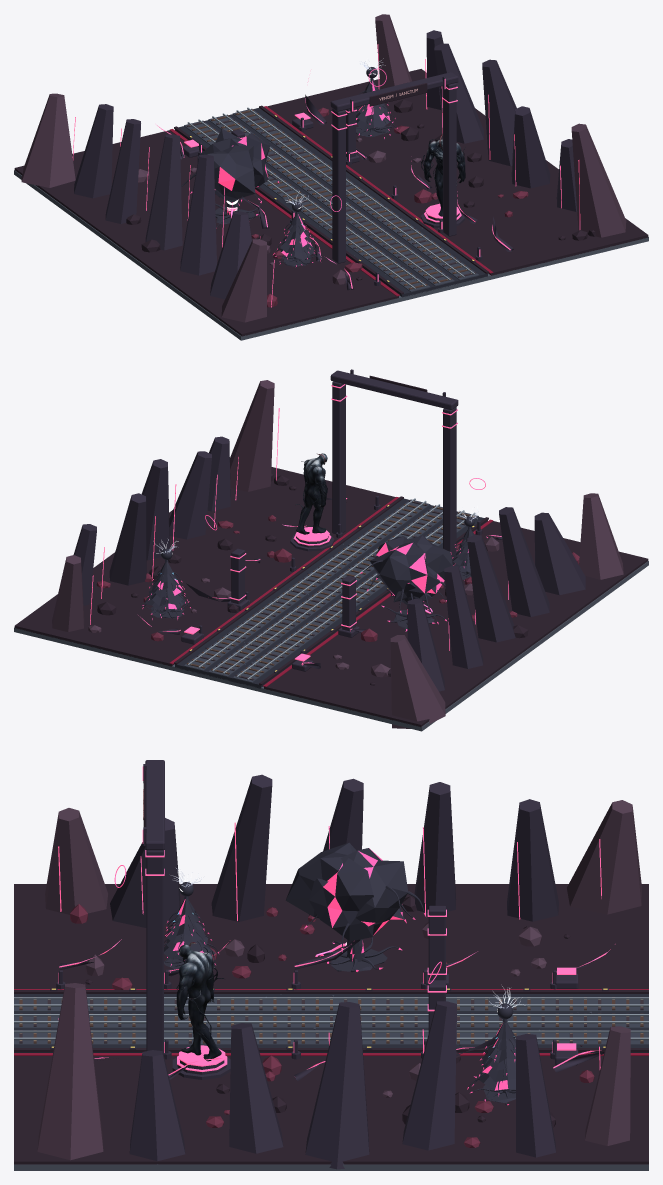
The model's file is 01_Venom_Sanctum.glb.
3 views of the same model, one above another, from view 1: azimuth 30°, elevation 25°; view 2: azimuth 150°, elevation 25°; view 3: azimuth 270°, elevation 25° (orthographic). The views are drawn at different scales.
Parts seen in each view (by area): view 1: 01_Venom_Sanctum · coal, 01_Venom_Sanctum · iron, 01_Venom_Sanctum · ash, 01_Venom_Sanctum · stone, District_Gate, 01_Venom_Sanctum · ballast, Venom tree surface 04.export, 01_Venom_Sanctum · dirt, 01_Venom_Sanctum · tie, 01_Venom_Sanctum · steel, 01_Venom_Sanctum · plasma, 01_Venom_Sanctum · steelweb (+6 smaller); view 2: 01_Venom_Sanctum · coal, 01_Venom_Sanctum · iron, 01_Venom_Sanctum · ash, 01_Venom_Sanctum · stone, District_Gate, 01_Venom_Sanctum · ballast, Venom tree surface 04.export, 01_Venom_Sanctum · dirt, 01_Venom_Sanctum · tie, 01_Venom_Sanctum · steel, 01_Venom_Sanctum · steelweb, Venom statue surface 01.export (+7 smaller); view 3: 01_Venom_Sanctum · coal, 01_Venom_Sanctum · iron, 01_Venom_Sanctum · ash, 01_Venom_Sanctum · stone, Venom tree surface 04.export, 01_Venom_Sanctum · steelweb, 01_Venom_Sanctum · ballast, District_Gate, 01_Venom_Sanctum · steel, 01_Venom_Sanctum · dirt, Venom statue surface 01.export, 01_Venom_Sanctum · plasma (+8 smaller).
Boxes of the visible parts, x1,y1,x2,y2 form: 01_Venom_Sanctum · coal: (14,69,648,336); 01_Venom_Sanctum · iron: (74,30,577,299); 01_Venom_Sanctum · ash: (21,14,626,322); 01_Venom_Sanctum · stone: (184,108,478,292); District_Gate: (330,72,458,263); 01_Venom_Sanctum · ballast: (175,108,487,297); Venom tree surface 04.export: (181,128,277,227); 01_Venom_Sanctum · dirt: (14,170,648,340); 01_Venom_Sanctum · tie: (191,109,471,289); 01_Venom_Sanctum · steel: (187,107,474,288); 01_Venom_Sanctum · plasma: (72,44,580,307); 01_Venom_Sanctum · steelweb: (187,108,475,289); 01_Venom_Sanctum · coal: (14,467,648,727); 01_Venom_Sanctum · iron: (73,436,585,691); 01_Venom_Sanctum · ash: (52,380,623,728); 01_Venom_Sanctum · stone: (184,499,478,682); District_Gate: (330,369,458,560); 01_Venom_Sanctum · ballast: (175,498,487,688); Venom tree surface 04.export: (362,535,452,629); 01_Venom_Sanctum · dirt: (14,561,648,731); 01_Venom_Sanctum · tie: (186,504,475,676); 01_Venom_Sanctum · steel: (188,498,474,679); 01_Venom_Sanctum · steelweb: (187,499,474,680); Venom statue surface 01.export: (295,453,327,534); 01_Venom_Sanctum · coal: (14,884,648,1164); 01_Venom_Sanctum · iron: (50,774,608,1169); 01_Venom_Sanctum · ash: (37,800,641,1160); 01_Venom_Sanctum · stone: (14,994,648,1045); Venom tree surface 04.export: (285,842,424,972); 01_Venom_Sanctum · steelweb: (14,998,648,1040); 01_Venom_Sanctum · ballast: (14,994,648,1052); District_Gate: (142,760,164,1055); 01_Venom_Sanctum · steel: (14,997,648,1038); 01_Venom_Sanctum · dirt: (14,1164,648,1170); Venom statue surface 01.export: (176,942,223,1061); 01_Venom_Sanctum · plasma: (58,822,615,1075).
Bounding box in the file's own units: 57.48 × 23.25 × 54.
Materials: 23 (1 with a texture image).
